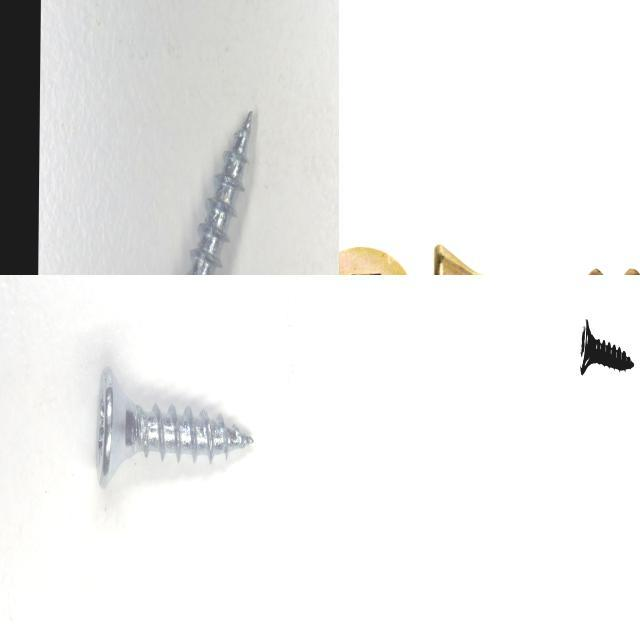Screw: (93, 364, 258, 494), (188, 110, 252, 275), (580, 318, 634, 374)
